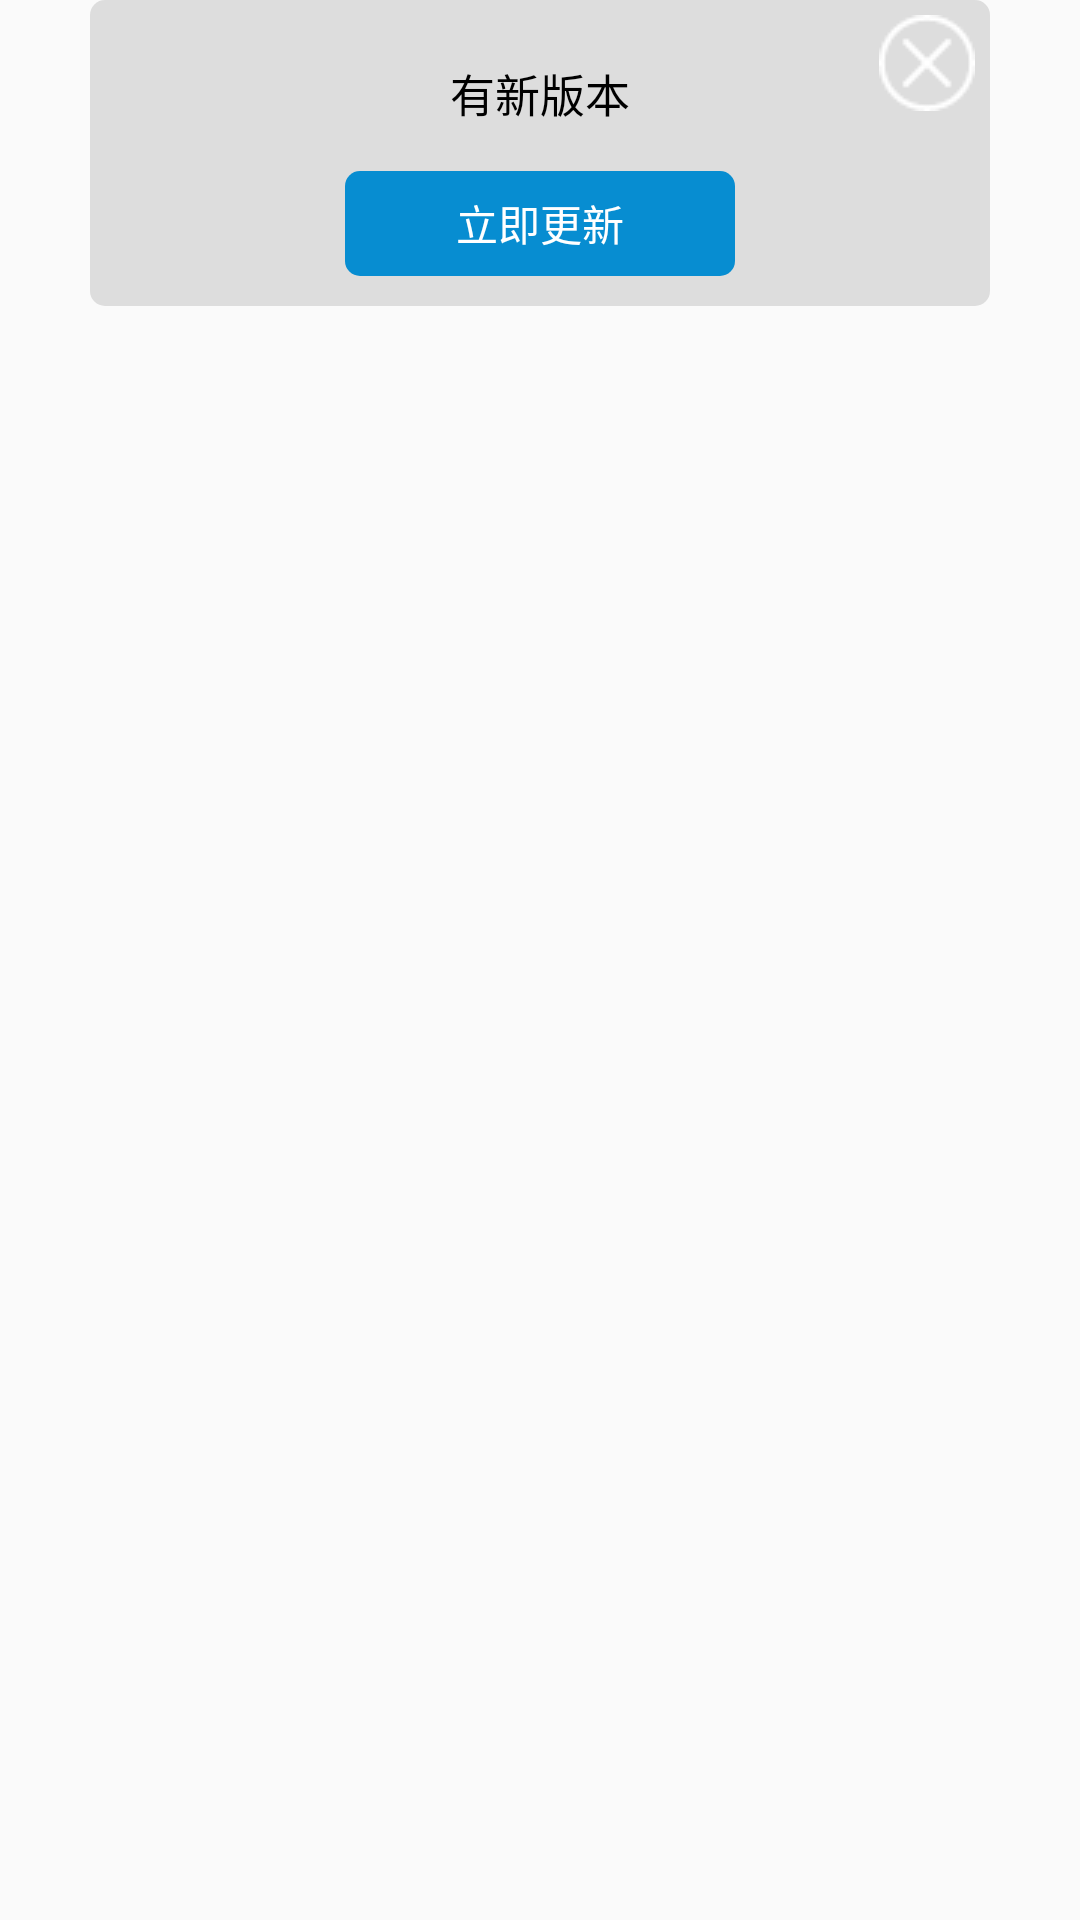

Where icons sit on this 1080x1920 app screen, as detection(x1, y1, x2, y2):
exit: detection(879, 15, 975, 111)
